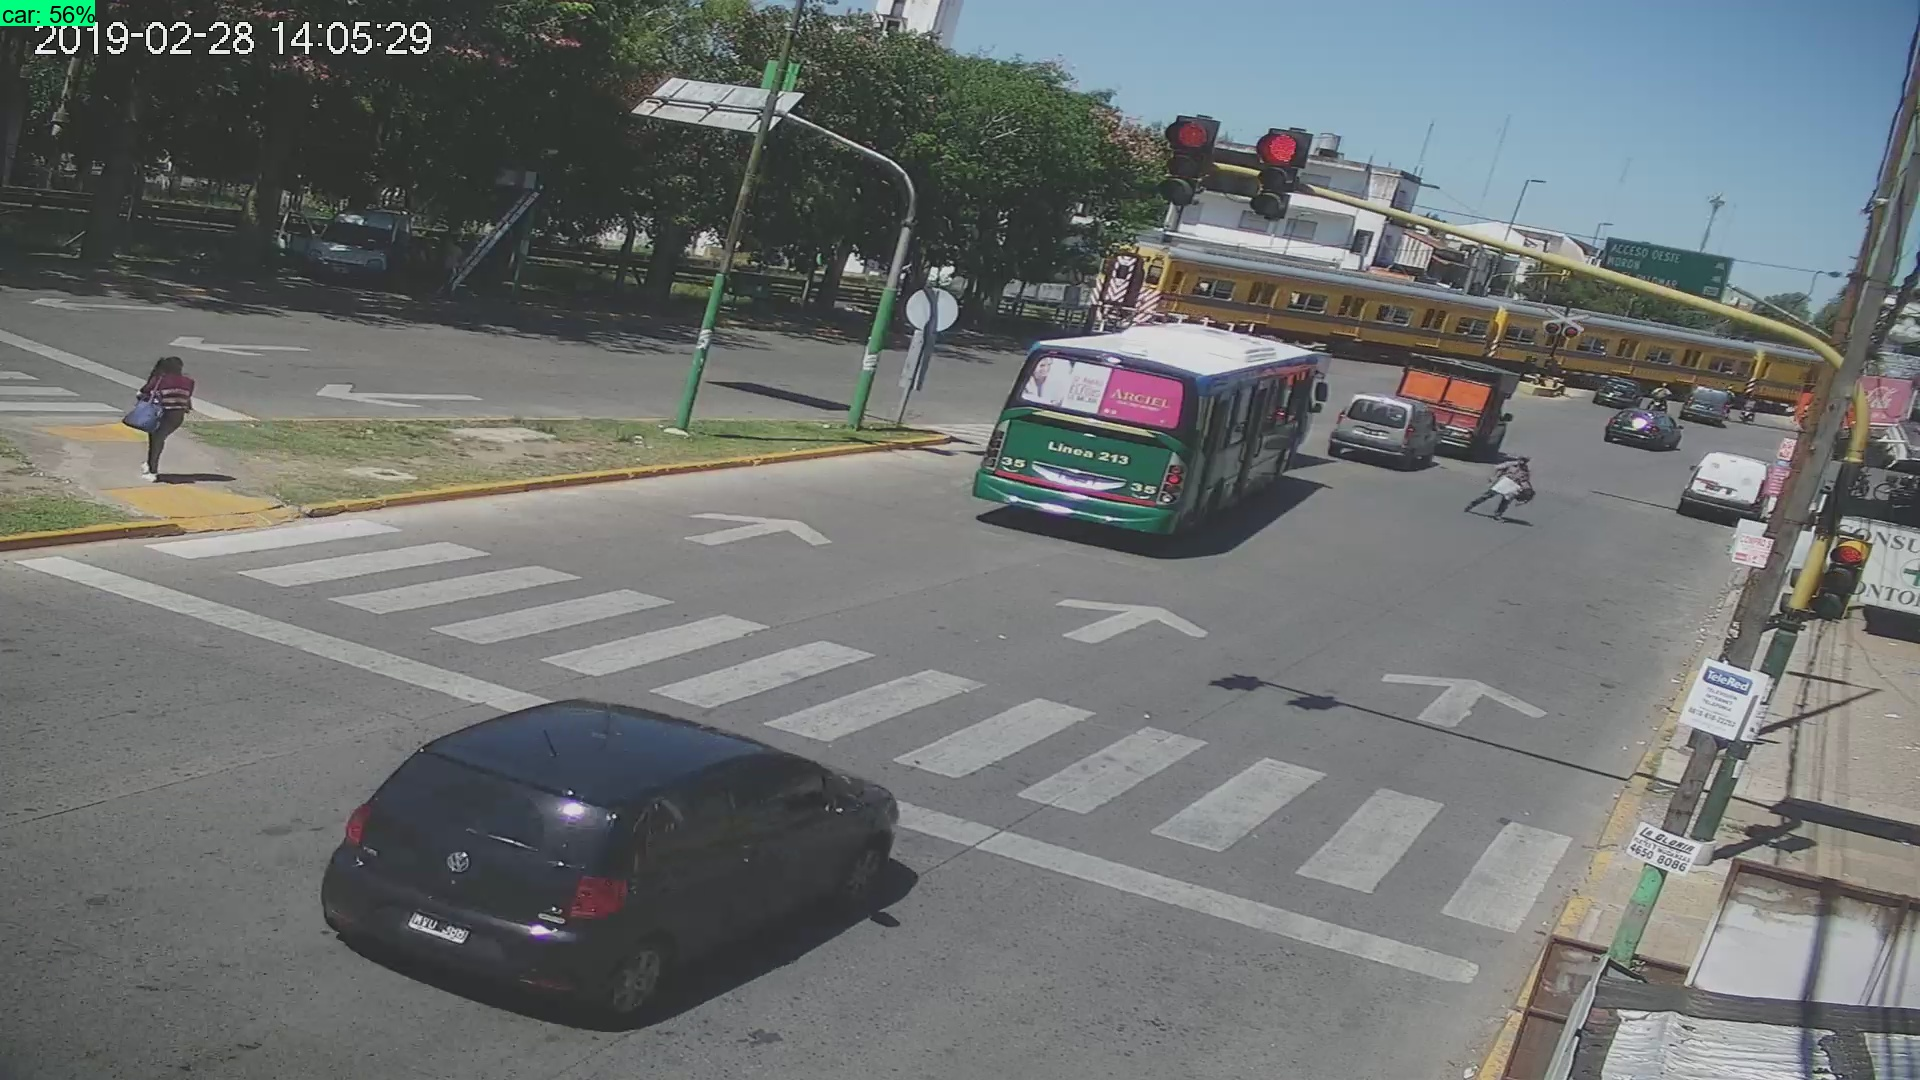bus: (963, 322, 1333, 567)
car: (305, 694, 918, 1036), (1329, 390, 1447, 480), (1580, 394, 1702, 473), (1672, 444, 1774, 535)
